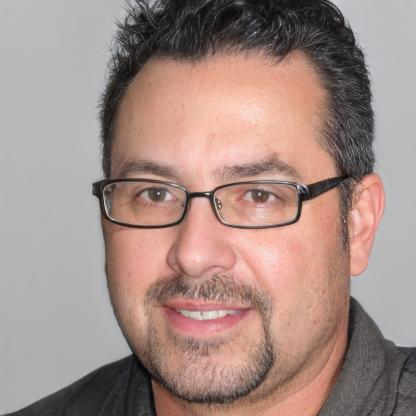eyeee: (121, 180, 183, 206), (233, 183, 292, 209)
mouthhz: (158, 297, 257, 335)
nosebb: (165, 194, 239, 280)
